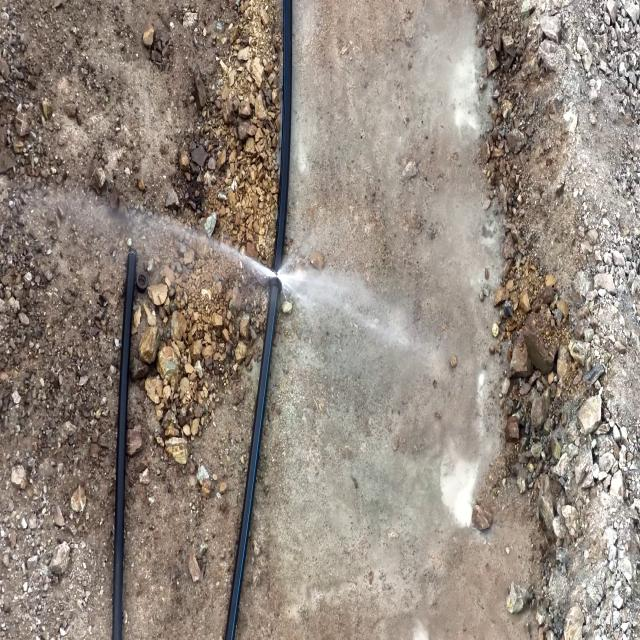leak: (96, 199, 365, 316)
